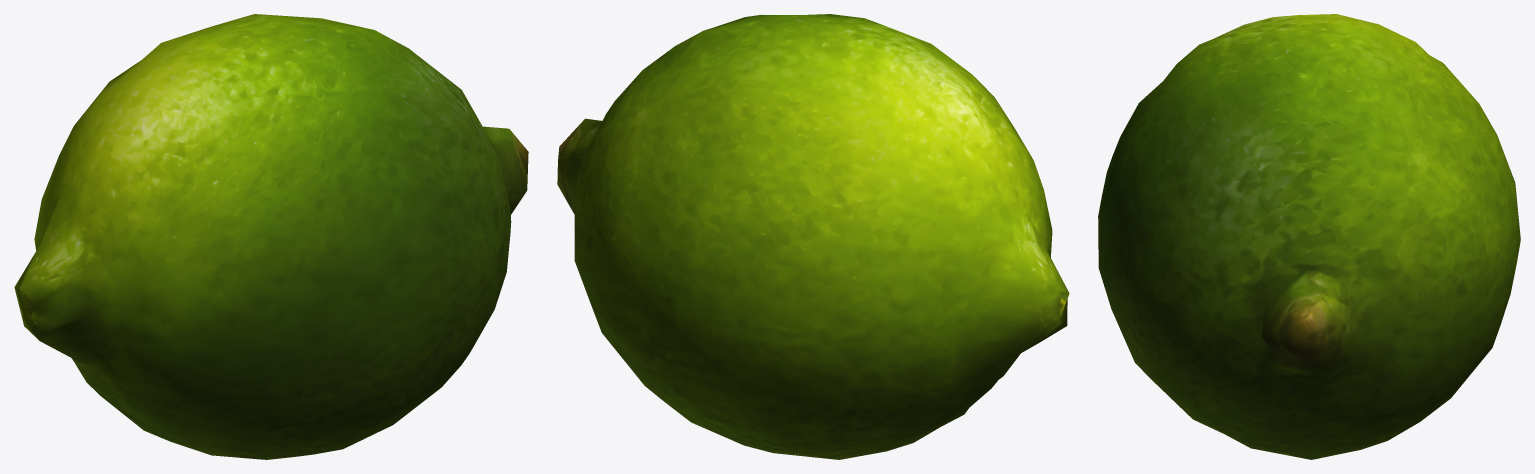
The model's file is lima-v1.glb.
The picture shows the model from 3 angles, left to right: view 1: azimuth 30°, elevation 25°; view 2: azimuth 150°, elevation 25°; view 3: azimuth 270°, elevation 25°; orthographic projection. The views are drawn at different scales.
Visible parts, largest first — view 1: tripo_node_0f2b8c48-4108-4d25-8d87-7d6a838ba9e7; view 2: tripo_node_0f2b8c48-4108-4d25-8d87-7d6a838ba9e7; view 3: tripo_node_0f2b8c48-4108-4d25-8d87-7d6a838ba9e7.
Boxes of the visible parts, x1,y1,x2,y2 form: tripo_node_0f2b8c48-4108-4d25-8d87-7d6a838ba9e7: (14,14,528,459); tripo_node_0f2b8c48-4108-4d25-8d87-7d6a838ba9e7: (557,14,1069,459); tripo_node_0f2b8c48-4108-4d25-8d87-7d6a838ba9e7: (1098,14,1520,459).
Size of the model in its own units: 0.97 by 0.7467 by 0.7208.
Materials: 1 (1 with a texture image).
